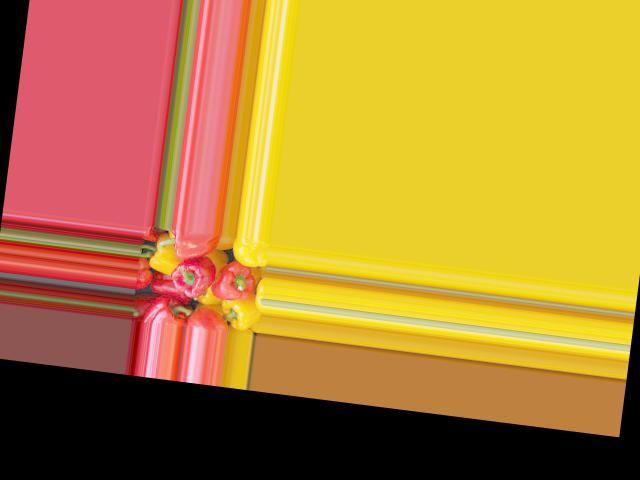bell_pepper: (223, 294, 262, 329)
